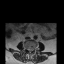CCS_normal: (29, 46, 30, 54)
LFS_normal: (32, 46, 34, 52)
LLS_normal: (30, 47, 32, 52)
RFS_stenosis: (26, 46, 28, 51)
RLS_normal: (27, 47, 29, 52)
